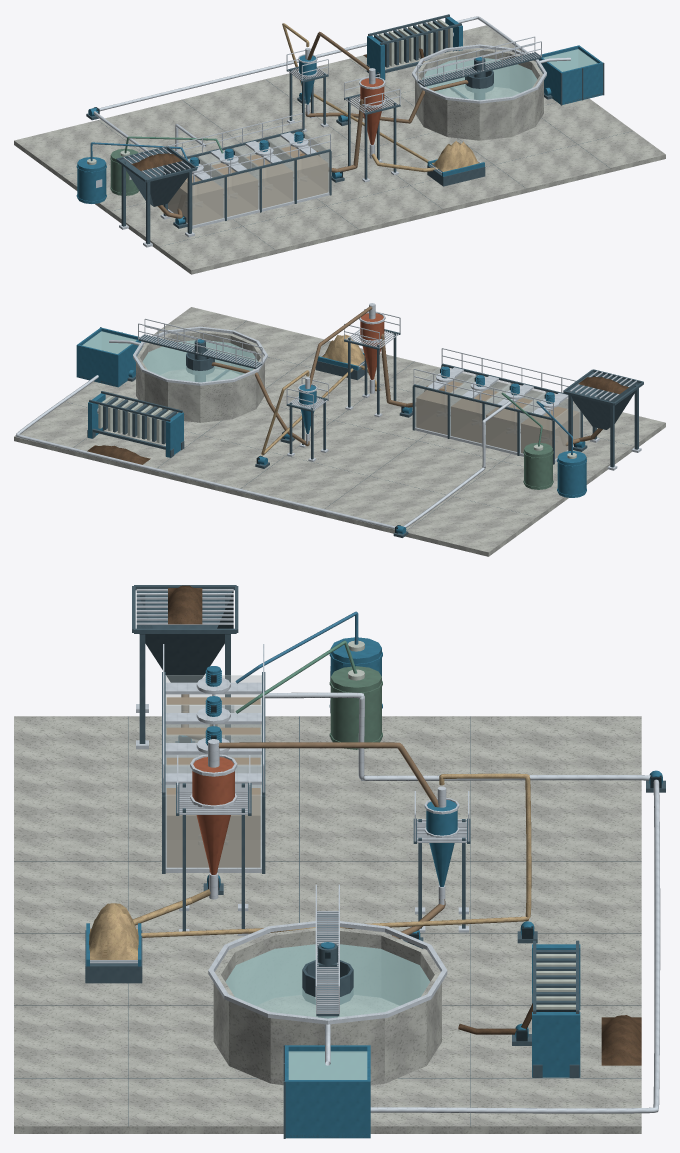
Rendered from sediment_preview.glb.
3 views of the same model, one above another, from view 1: azimuth 30°, elevation 25°; view 2: azimuth 150°, elevation 25°; view 3: azimuth 270°, elevation 25° (orthographic). The views are drawn at different scales.
Parts seen in each view (by area): view 1: site__body_concrete, wash__wall_glass, wash__contents_liquid, adv__body_concrete, hopper__body_steel, adv__surface_water, water__body_paint_blue, pipes__P11_stainless, press__plates_steel, press__plates_pe_tank, chem__body_paint_blue, adv__launder_stainless (+27 smaller); view 2: site__body_concrete, wash__wall_glass, wash__contents_liquid, adv__body_concrete, hopper__body_steel, pipes__P11_stainless, adv__surface_water, water__body_paint_blue, press__plates_pe_tank, wash__details_stainless, press__plates_steel, chem__body_paint_blue (+29 smaller); view 3: site__body_concrete, adv__body_concrete, adv__surface_water, wash__wall_glass, pipes__P11_stainless, wash__contents_liquid, water__body_paint_blue, hopper__body_steel, adv__launder_stainless, press__head_paint_blue, chem__body_paint_green, wash__bridge_stainless (+23 smaller).
Part boxes in pixels (left/top/right/bottom): site__body_concrete: left=14, top=25, right=665, bottom=274; wash__wall_glass: left=163, top=131, right=329, bottom=225; wash__contents_liquid: left=168, top=146, right=328, bottom=225; adv__body_concrete: left=415, top=48, right=543, bottom=140; hopper__body_steel: left=120, top=148, right=192, bottom=244; adv__surface_water: left=422, top=58, right=537, bottom=100; water__body_paint_blue: left=537, top=45, right=602, bottom=104; pipes__P11_stainless: left=93, top=16, right=529, bottom=152; press__plates_steel: left=374, top=20, right=447, bottom=67; press__plates_pe_tank: left=378, top=19, right=452, bottom=66; chem__body_paint_blue: left=77, top=157, right=106, bottom=203; adv__launder_stainless: left=412, top=44, right=546, bottom=103; site__body_concrete: left=14, top=307, right=665, bottom=556; wash__wall_glass: left=415, top=366, right=580, bottom=459; wash__contents_liquid: left=416, top=381, right=579, bottom=458; adv__body_concrete: left=136, top=330, right=264, bottom=422; hopper__body_steel: left=567, top=371, right=640, bottom=467; pipes__P11_stainless: left=15, top=375, right=512, bottom=529; adv__surface_water: left=142, top=340, right=257, bottom=382; water__body_paint_blue: left=76, top=327, right=141, bottom=387; press__plates_pe_tank: left=98, top=396, right=172, bottom=442; wash__details_stainless: left=413, top=348, right=576, bottom=416; press__plates_steel: left=103, top=397, right=176, bottom=444; chem__body_paint_blue: left=557, top=451, right=586, bottom=497; site__body_concrete: left=14, top=716, right=641, bottom=1133; adv__body_concrete: left=213, top=928, right=441, bottom=1084; adv__surface_water: left=225, top=944, right=429, bottom=1018; wash__wall_glass: left=165, top=675, right=261, bottom=870; pipes__P11_stainless: left=262, top=692, right=660, bottom=1113; wash__contents_liquid: left=166, top=697, right=260, bottom=867; water__body_paint_blue: left=285, top=1045, right=370, bottom=1138; hopper__body_steel: left=136, top=591, right=233, bottom=743; adv__launder_stainless: left=208, top=921, right=447, bottom=1024; press__head_paint_blue: left=532, top=944, right=580, bottom=1077; chem__body_paint_green: left=330, top=666, right=381, bottom=749; wash__bridge_stainless: left=165, top=682, right=261, bottom=784.
Size of the model in its own units: 36.17 by 7.26 by 22.85.
Materials: 16 (13 with a texture image).
